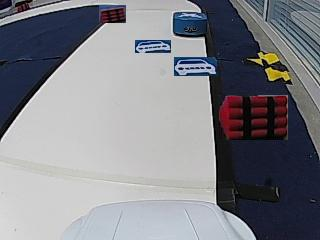prop: (173, 12, 207, 37)
